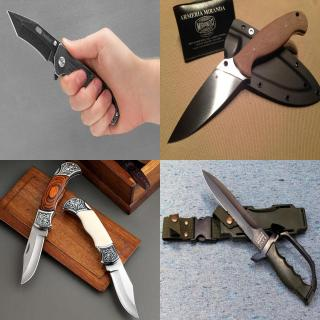knife: (4, 6, 102, 102), (165, 51, 253, 145), (200, 165, 278, 264), (95, 246, 141, 318), (18, 202, 56, 287)
